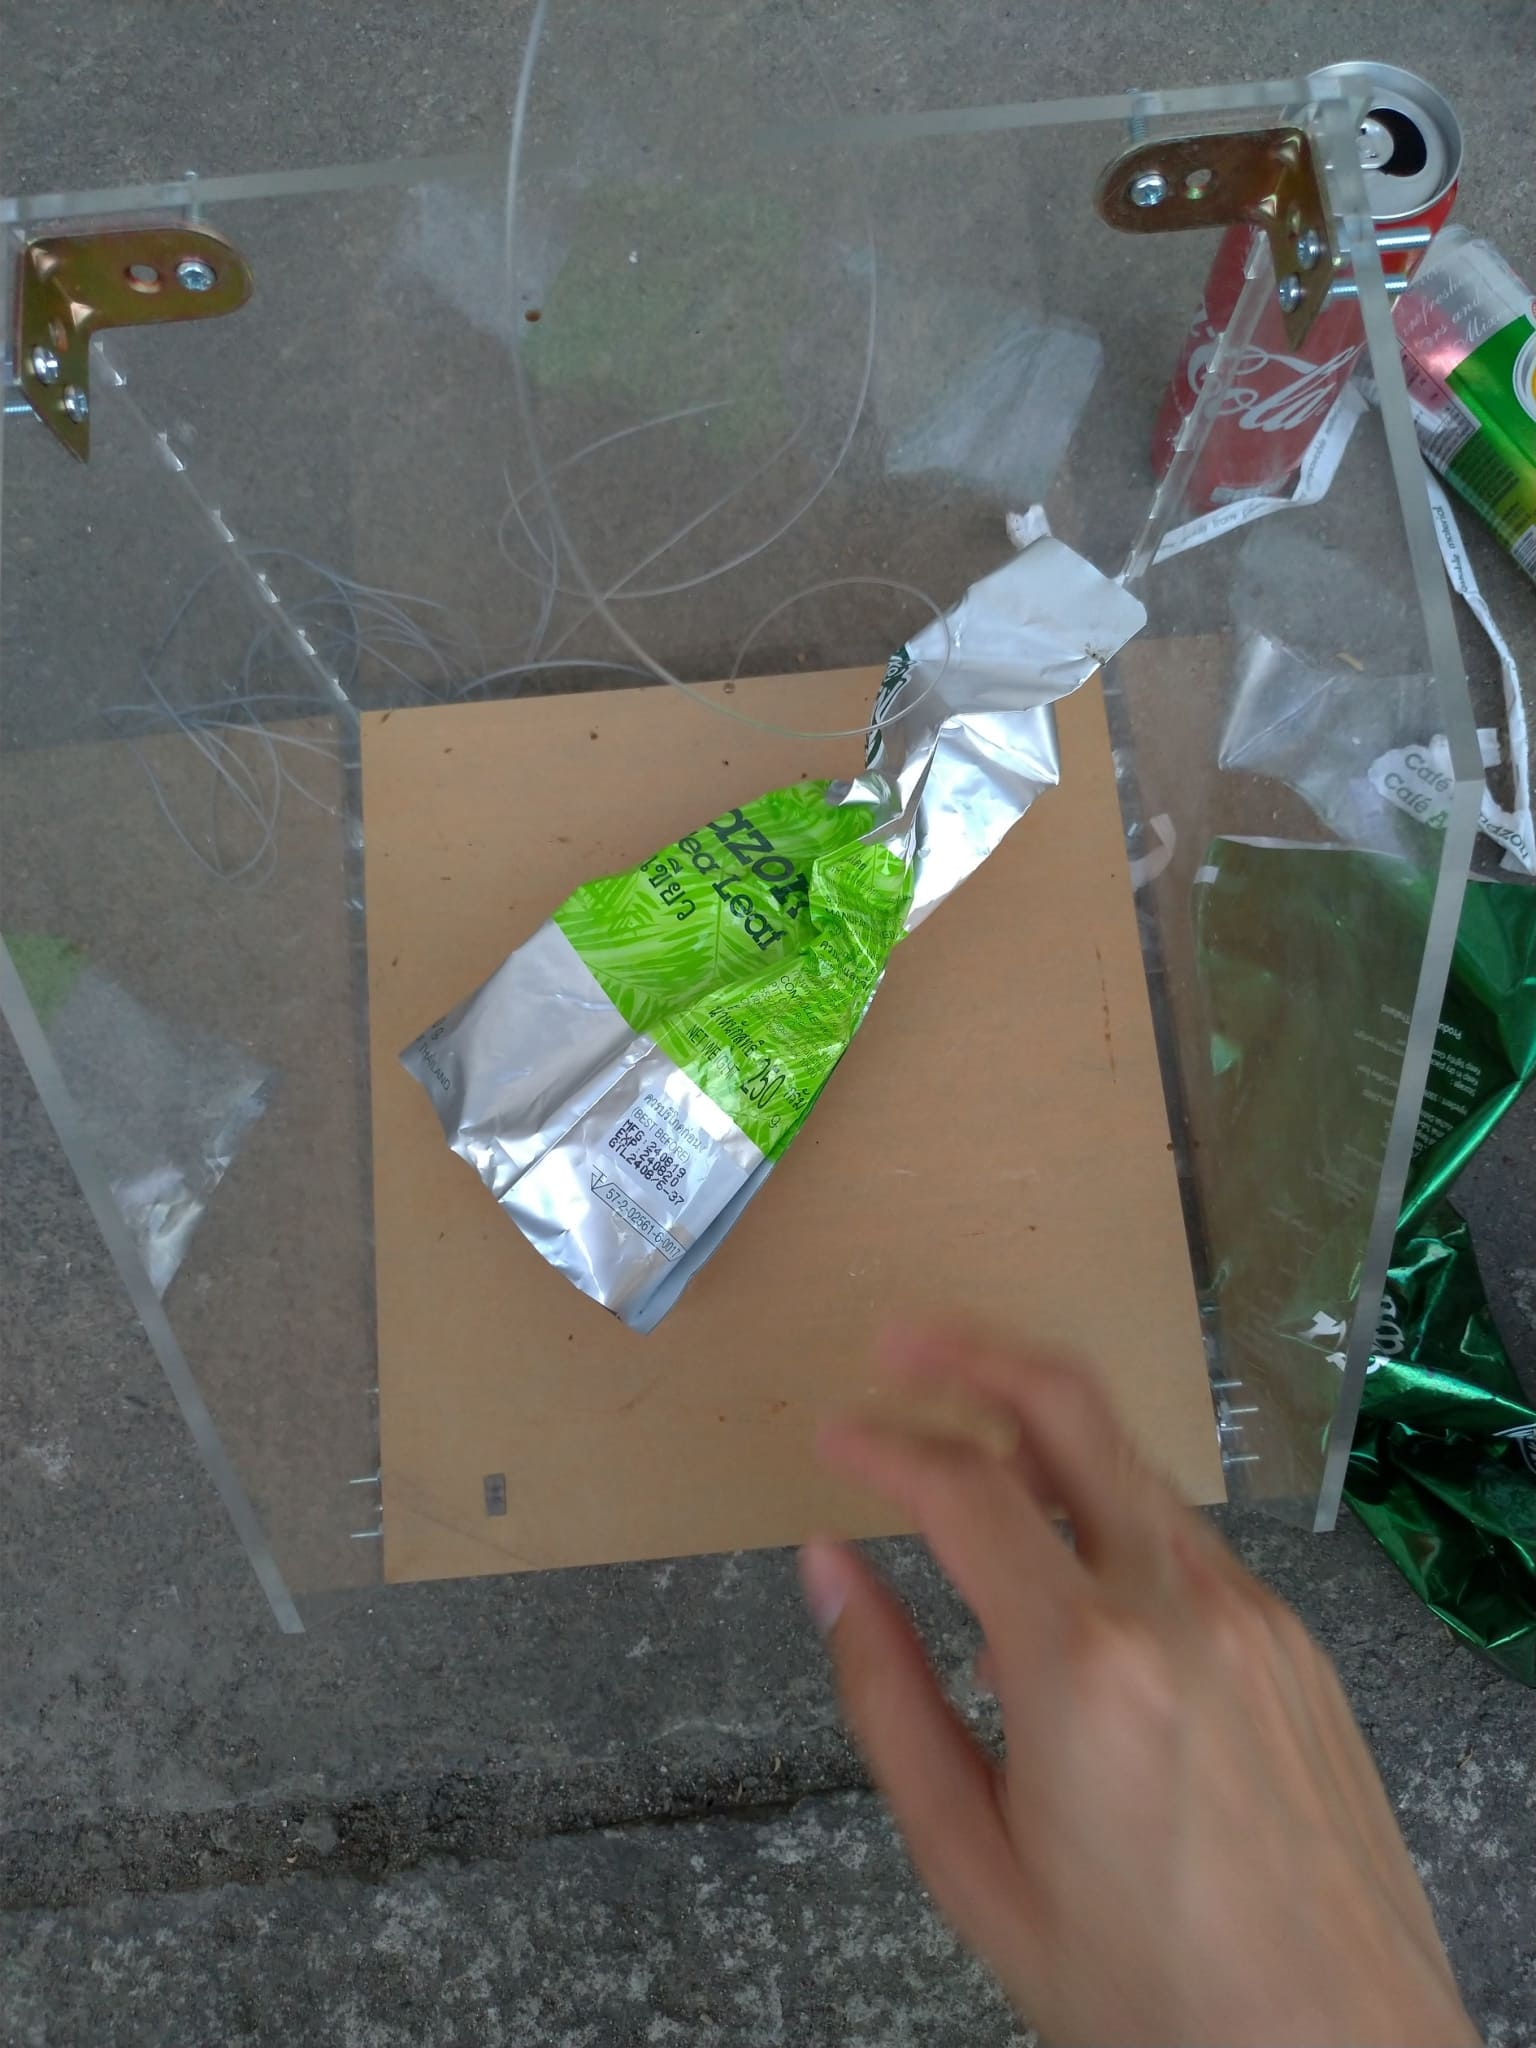AlCan: (1157, 58, 1475, 502), (1375, 235, 1536, 548)
Others: (394, 514, 1147, 1334), (1175, 811, 1533, 1651), (1000, 364, 1363, 592), (1391, 423, 1536, 872)
